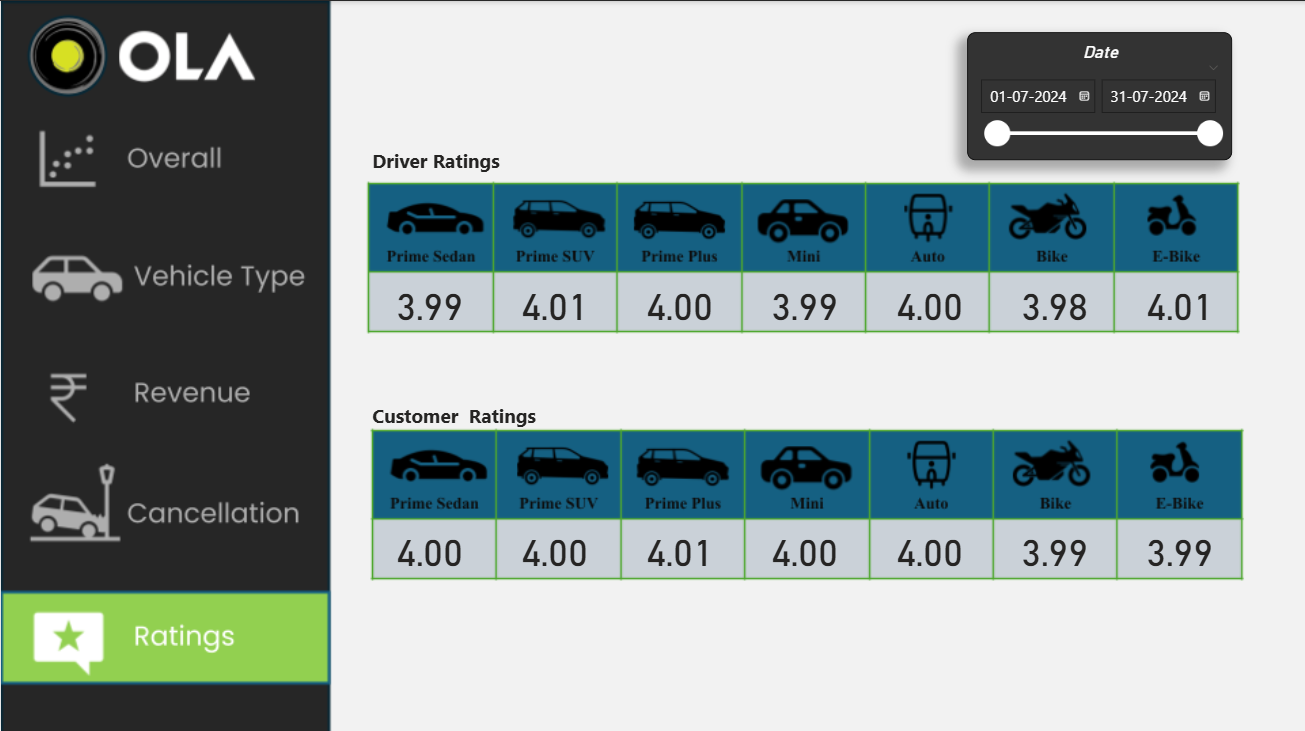

Layout of this report page (visuals, bound fields, positions):
{"tool":"powerbi","page":{"name":"ratings","canvas":[1280,720],"ordinal":4},"visuals":[{"type":"actionButton","box":[0,223.3,319,92],"z":0},{"type":"actionButton","box":[0,344.8,319,88.3],"z":1000},{"type":"actionButton","box":[0,455.2,319,95.7],"z":2000},{"type":"actionButton","box":[0,579.1,319,90.8],"z":3000},{"type":"actionButton","box":[0,110.4,319,92],"z":4000},{"type":"card","fields":{"Values":["Avg(July (2).Driver_Ratings)"]},"box":[360,269.3,122.7,54.7],"z":5000},{"type":"card","fields":{"Values":["Avg(July (2).Driver_Ratings)"]},"box":[482.7,269.3,122.7,54.7],"z":6000},{"type":"card","fields":{"Values":["Avg(July (2).Driver_Ratings)"]},"box":[605.3,269.3,122.7,54.7],"z":7000},{"type":"card","fields":{"Values":["Avg(July (2).Driver_Ratings)"]},"box":[728,269.3,122.7,54.7],"z":8000},{"type":"card","fields":{"Values":["Avg(July (2).Driver_Ratings)"]},"box":[850.7,269.3,122.7,54.7],"z":9000},{"type":"card","fields":{"Values":["Avg(July (2).Driver_Ratings)"]},"box":[973.3,269.3,122.7,54.7],"z":10000},{"type":"card","fields":{"Values":["Avg(July (2).Driver_Ratings)"]},"box":[1096,269.3,122.7,54.7],"z":11000},{"type":"card","fields":{"Values":["Avg(July (2).Customer_Rating)"]},"box":[360,512,122.7,54.7],"z":12000},{"type":"card","fields":{"Values":["Avg(July (2).Customer_Rating)"]},"box":[482.7,512,122.7,54.7],"z":13000},{"type":"card","fields":{"Values":["Avg(July (2).Customer_Rating)"]},"box":[605.3,512,122.7,54.7],"z":14000},{"type":"card","fields":{"Values":["Avg(July (2).Customer_Rating)"]},"box":[728,512,122.7,54.7],"z":15000},{"type":"card","fields":{"Values":["Avg(July (2).Customer_Rating)"]},"box":[850.7,512,122.7,54.7],"z":16000},{"type":"card","fields":{"Values":["Avg(July (2).Customer_Rating)"]},"box":[973.3,512,122.7,54.7],"z":17000},{"type":"card","fields":{"Values":["Avg(July (2).Customer_Rating)"]},"box":[1096,512,122.7,54.7],"z":18000},{"type":"textbox","box":[360,138.7,153.3,34.7],"z":19000},{"type":"textbox","box":[360,389.3,170.7,34.7],"z":20000},{"type":"slicer","title":"Date","fields":{"Values":["July (2).Date"]},"box":[948,30.7,260,125.3],"z":21000}]}

Visuals, with their boxes in screenshot pixels (x1, y1, x2, y2), scaled from the page's 1280x720 canvas onto the 1305x731 screenshot:
actionButton: bbox=[0, 227, 325, 320]
actionButton: bbox=[0, 350, 325, 440]
actionButton: bbox=[0, 462, 325, 559]
actionButton: bbox=[0, 588, 325, 680]
actionButton: bbox=[0, 112, 325, 205]
card - Avg(July (2).Driver_Ratings): bbox=[367, 273, 492, 329]
card - Avg(July (2).Driver_Ratings): bbox=[492, 273, 617, 329]
card - Avg(July (2).Driver_Ratings): bbox=[617, 273, 742, 329]
card - Avg(July (2).Driver_Ratings): bbox=[742, 273, 867, 329]
card - Avg(July (2).Driver_Ratings): bbox=[867, 273, 992, 329]
card - Avg(July (2).Driver_Ratings): bbox=[992, 273, 1117, 329]
card - Avg(July (2).Driver_Ratings): bbox=[1117, 273, 1243, 329]
card - Avg(July (2).Customer_Rating): bbox=[367, 520, 492, 575]
card - Avg(July (2).Customer_Rating): bbox=[492, 520, 617, 575]
card - Avg(July (2).Customer_Rating): bbox=[617, 520, 742, 575]
card - Avg(July (2).Customer_Rating): bbox=[742, 520, 867, 575]
card - Avg(July (2).Customer_Rating): bbox=[867, 520, 992, 575]
card - Avg(July (2).Customer_Rating): bbox=[992, 520, 1117, 575]
card - Avg(July (2).Customer_Rating): bbox=[1117, 520, 1243, 575]
textbox: bbox=[367, 141, 523, 176]
textbox: bbox=[367, 395, 541, 430]
"Date" slicer: bbox=[967, 31, 1232, 158]
